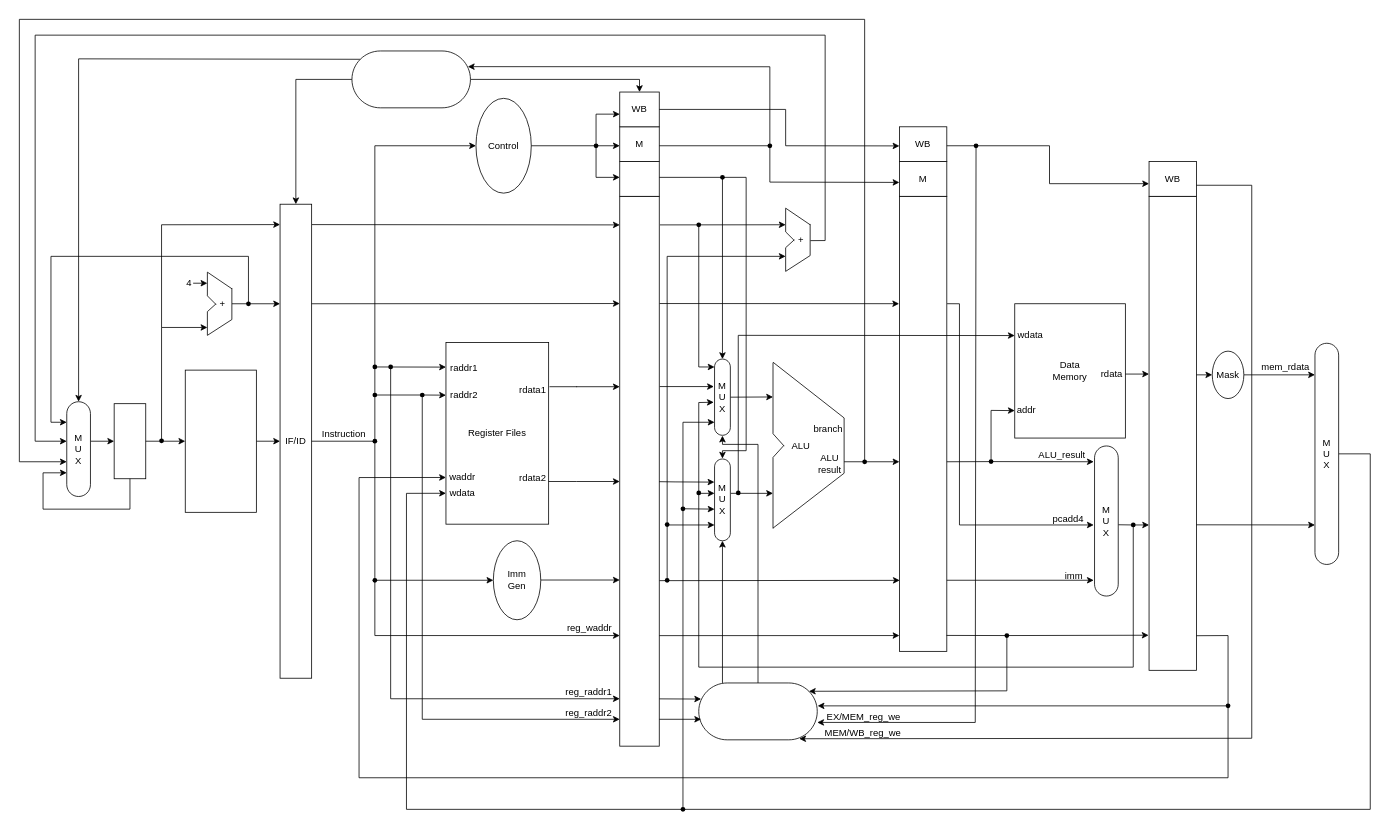
Some shapes in this 1390 by 831 pixel diagram are drawn without their labels. The shapes that lost their labels are listed below. From the top down, each one's centre as x and y in pixels, then its label:
point 410,79: Hazard detection unit
point 639,178: EX
point 129,441: PC
point 220,440: Instruction Memory
point 923,423: EX/MEM
point 1172,433: MEM/WB
point 639,471: ID/EX
point 757,711: Forwarding Unit
